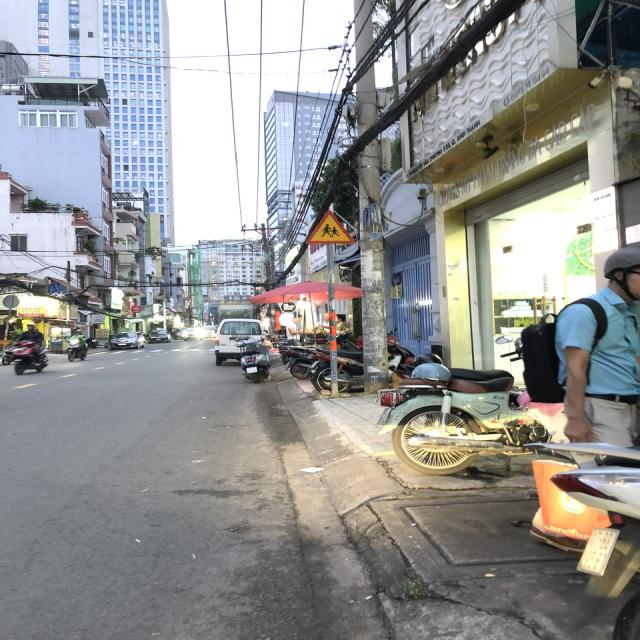Bien bao tre em: (300, 205, 361, 249)
